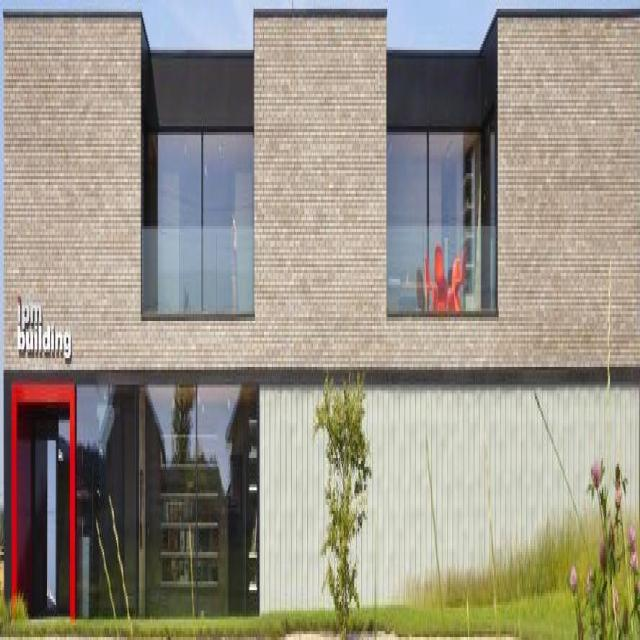door: (33, 426, 69, 610)
railing: (142, 226, 254, 312), (389, 223, 497, 309)
window: (76, 383, 261, 620), (155, 127, 257, 233), (387, 136, 483, 219)
